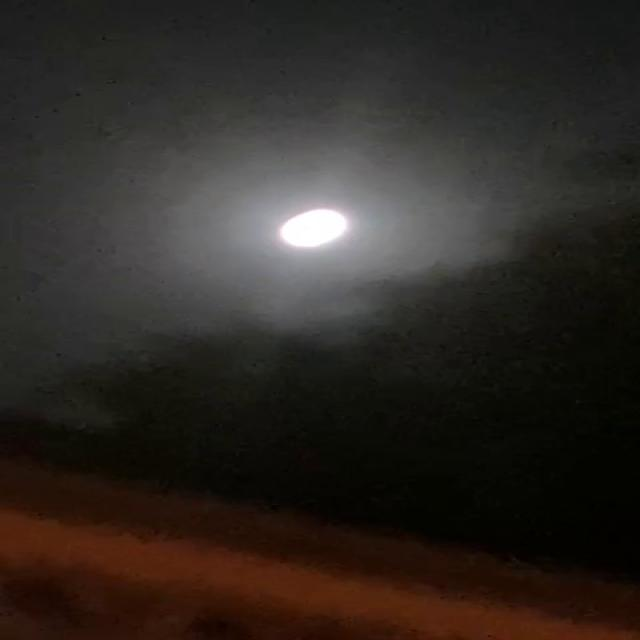moon: (306, 224, 389, 268)
